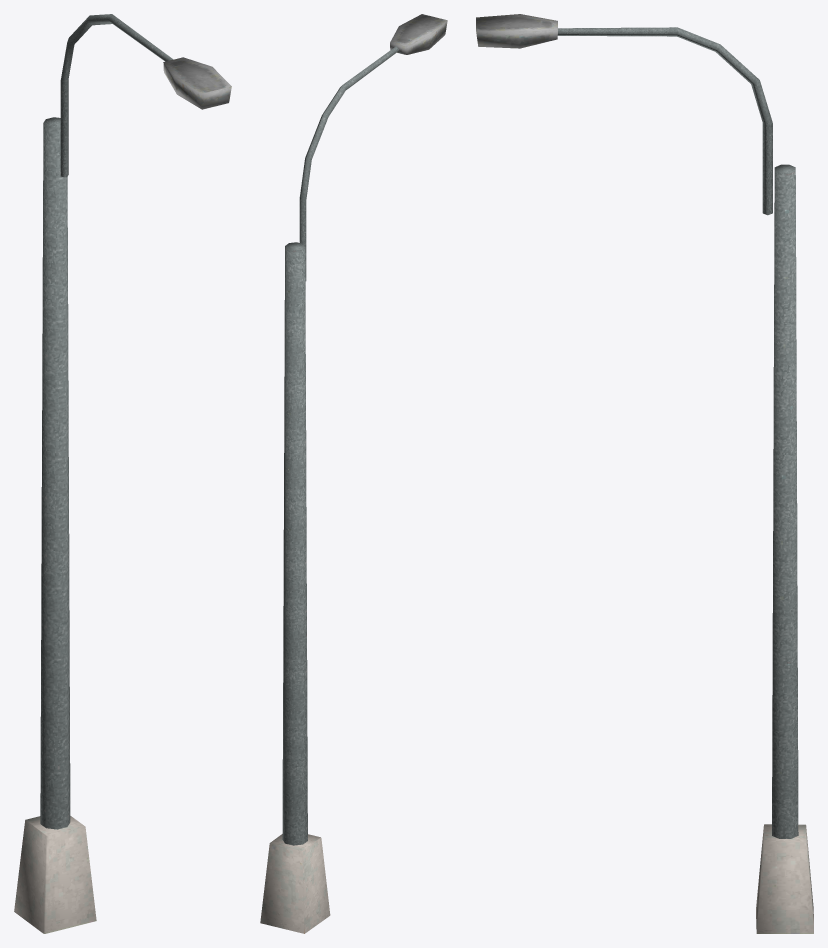
The model's file is street light 2.fbx.
3 renders of one model, left to right at view 1: azimuth 30°, elevation 25°; view 2: azimuth 150°, elevation 25°; view 3: azimuth 270°, elevation 25°, orthographic. The views are drawn at different scales.
Parts seen in each view (by area): view 1: Light_main_2.001; view 2: Light_main_2.001; view 3: Light_main_2.001.
Boxes of the visible parts, <box> form: Light_main_2.001: <box>14,14,231,933</box>; Light_main_2.001: <box>260,14,447,933</box>; Light_main_2.001: <box>476,14,813,933</box>.
Size of the model in its own units: 60.84 by 1041 by 355.
1 material, 1 textured.
